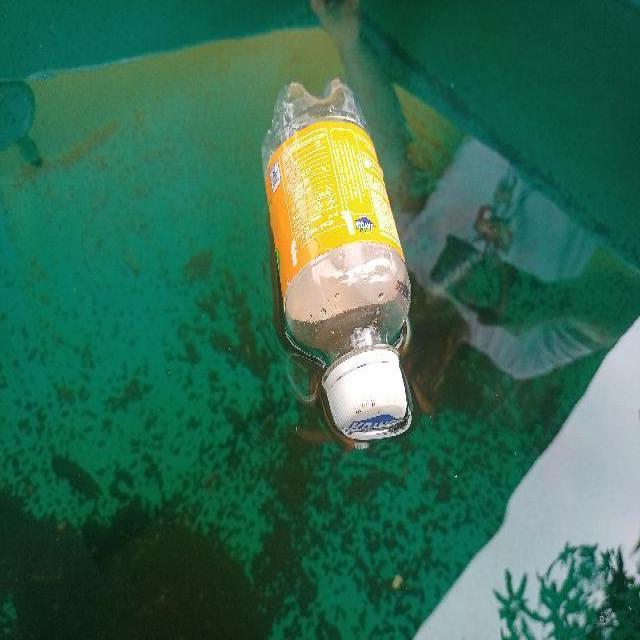Bottle: (254, 71, 432, 450)
